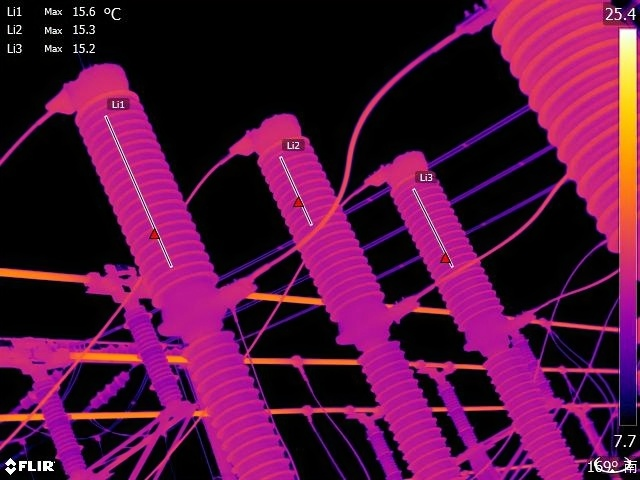circuit breaker: (64, 42, 304, 480), (245, 92, 470, 480), (386, 139, 589, 480)
clamp: (286, 350, 311, 384), (294, 399, 315, 428), (552, 359, 575, 383), (538, 308, 554, 335)
current transformer: (456, 1, 618, 253)
insulator: (90, 369, 129, 408)
post insulator: (433, 378, 499, 480), (130, 300, 183, 410), (39, 371, 85, 480), (583, 415, 628, 480), (366, 424, 399, 480)
